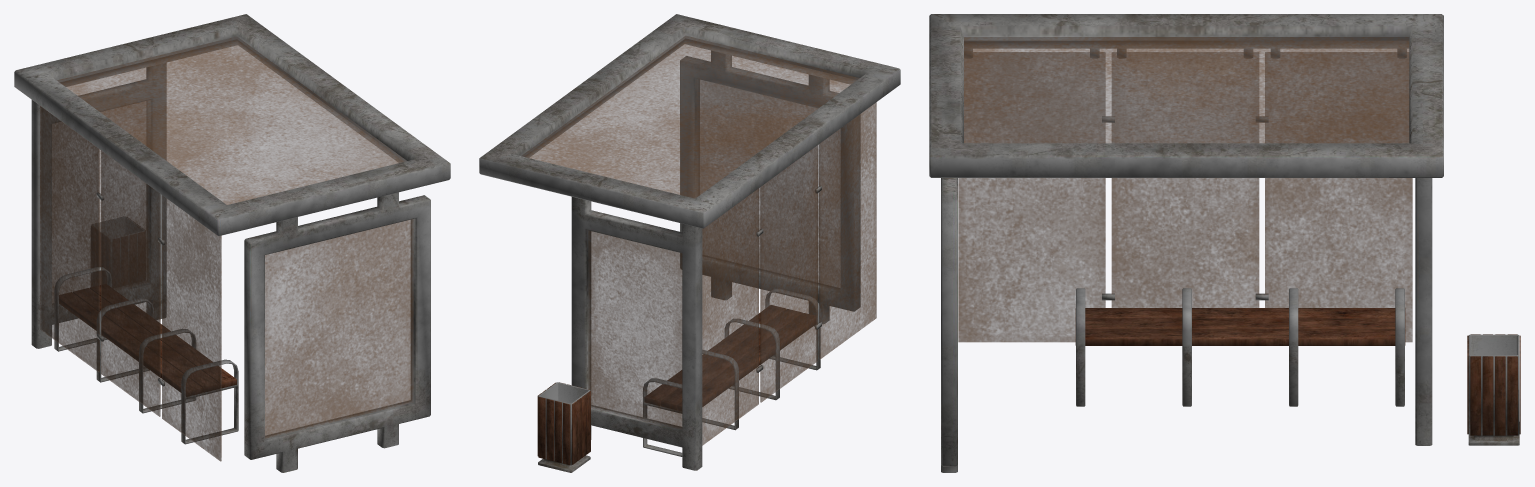
3 views of the same model, side by side, from view 1: azimuth 30°, elevation 25°; view 2: azimuth 150°, elevation 25°; view 3: azimuth 270°, elevation 25° (orthographic). The views are drawn at different scales.
Parts seen in each view (by area): view 1: bus_stop_LOD0; view 2: bus_stop_LOD0; view 3: bus_stop_LOD0.
Part boxes in pixels (<box>): bus_stop_LOD0: <box>14,14,450,472</box>; bus_stop_LOD0: <box>479,14,900,472</box>; bus_stop_LOD0: <box>929,14,1520,472</box>.
Size of what is drawn, in the model's own units: 2.69 by 3.02 by 4.69.
Materials: 2 (2 with a texture image).
